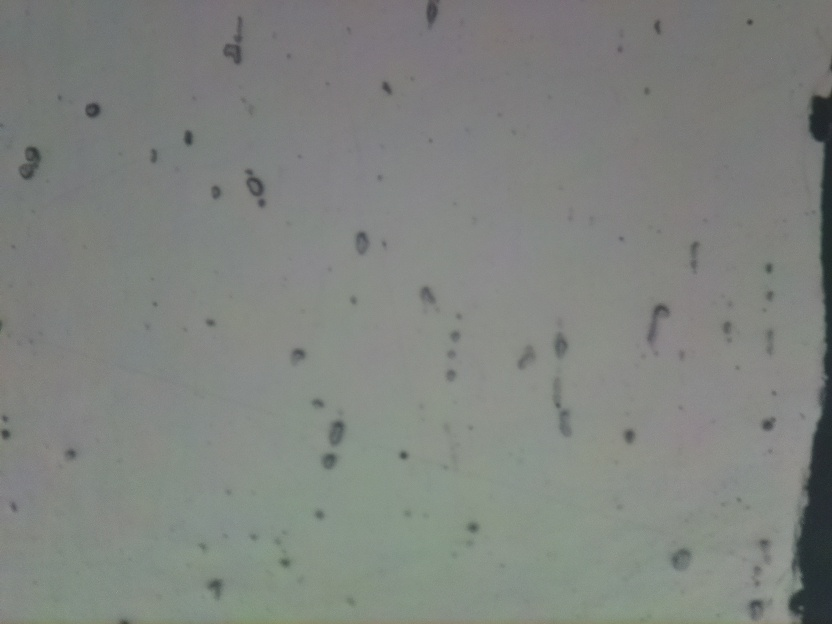crack: (792, 83, 832, 624)
